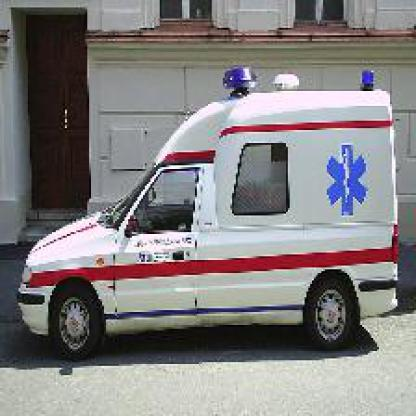emergency: (32, 76, 401, 377)
